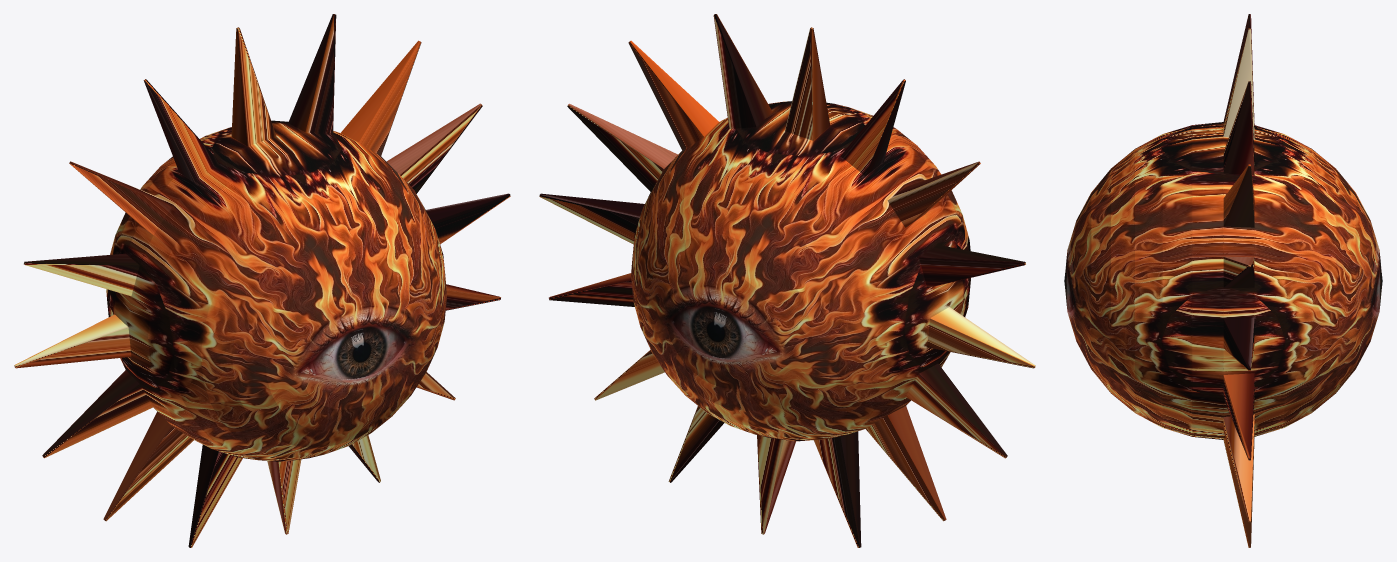
Rendered from enemy_6.glb.
3 renders of one model, left to right at view 1: azimuth 30°, elevation 25°; view 2: azimuth 150°, elevation 25°; view 3: azimuth 270°, elevation 25°, orthographic. The views are drawn at different scales.
Visible parts, largest first — view 1: 球; view 2: 球; view 3: 球.
Boxes of the visible parts, x1,y1,x2,y2 form: 球: (14,14,510,547); 球: (539,14,1035,547); 球: (1064,14,1382,547).
Bounding box in the file's own units: 3.35 × 3.35 × 2.
1 material, 1 textured.
